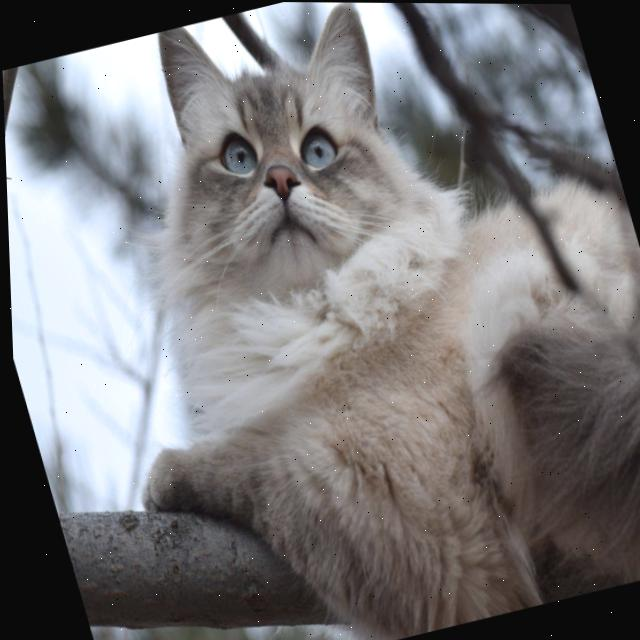Neva Masquerade: (8, 0, 640, 640)
